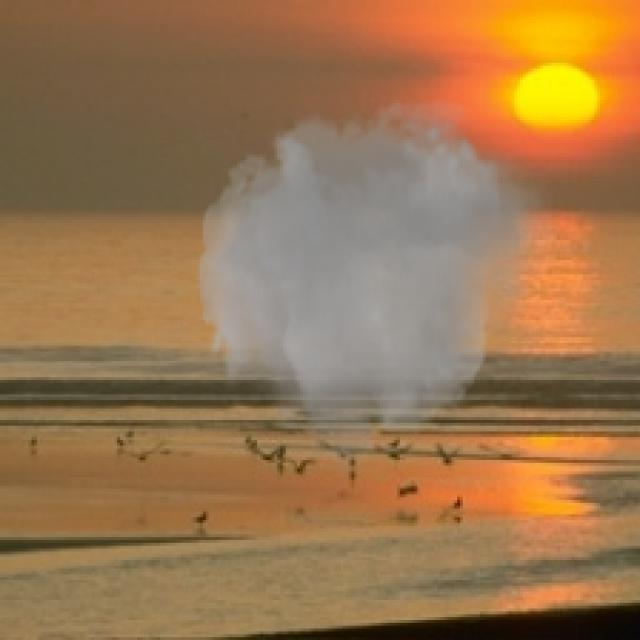Smoke: (188, 83, 560, 483)
